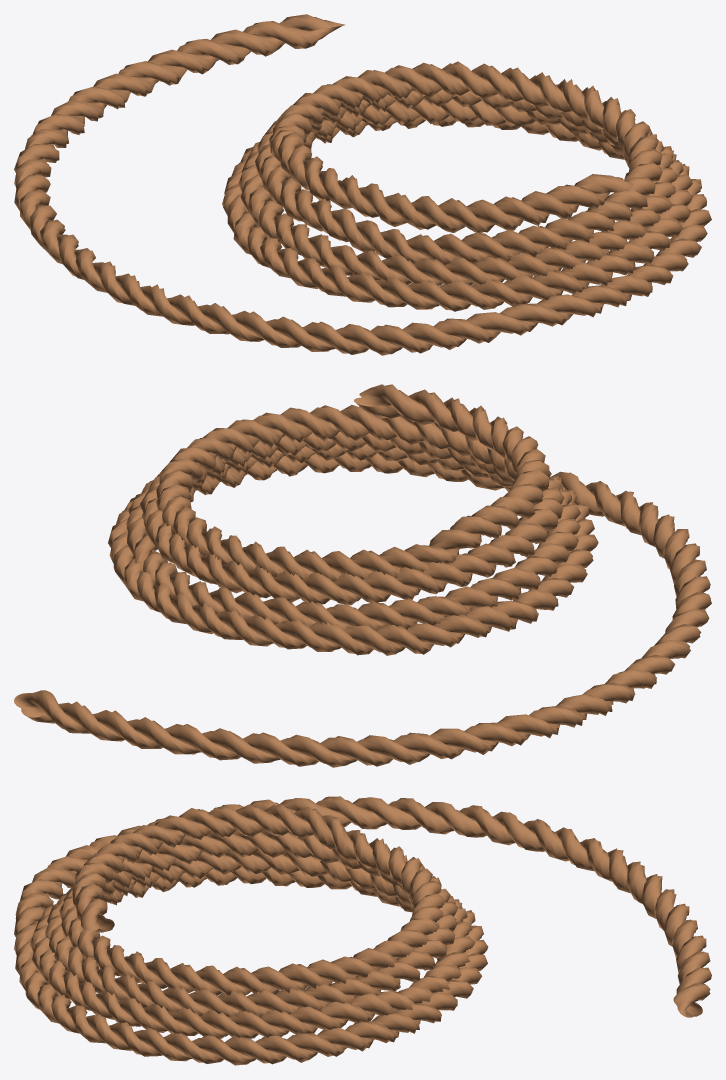
Rendered from Corda 1.fbx.
The picture shows the model from 3 angles, top to bottom: view 1: azimuth 30°, elevation 25°; view 2: azimuth 150°, elevation 25°; view 3: azimuth 270°, elevation 25°; orthographic projection. The views are drawn at different scales.
Parts seen in each view (by area): view 1: Rope 2.001; view 2: Rope 2.001; view 3: Rope 2.001.
Part boxes in pixels (left/top/right/bottom): Rope 2.001: left=14, top=14, right=711, bottom=355; Rope 2.001: left=14, top=384, right=711, bottom=767; Rope 2.001: left=14, top=796, right=711, bottom=1065.
Size of the model in its own units: 191 by 36.49 by 219.
